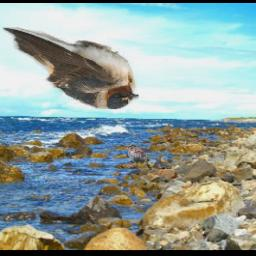Sparrow: (126, 145, 153, 171)
Swallow: (4, 28, 140, 110)
